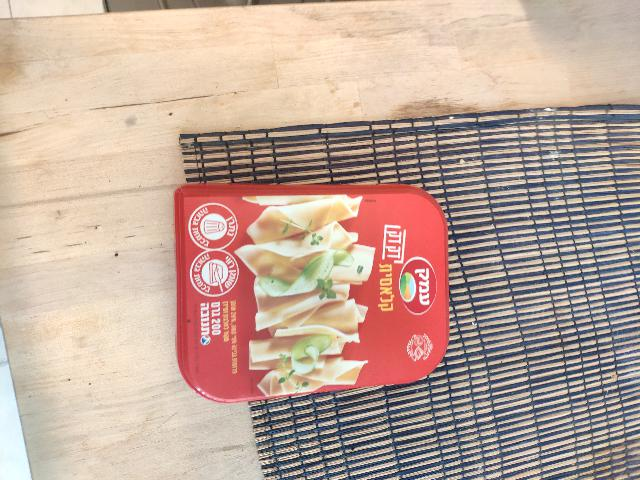cheese: (359, 179, 551, 465)
